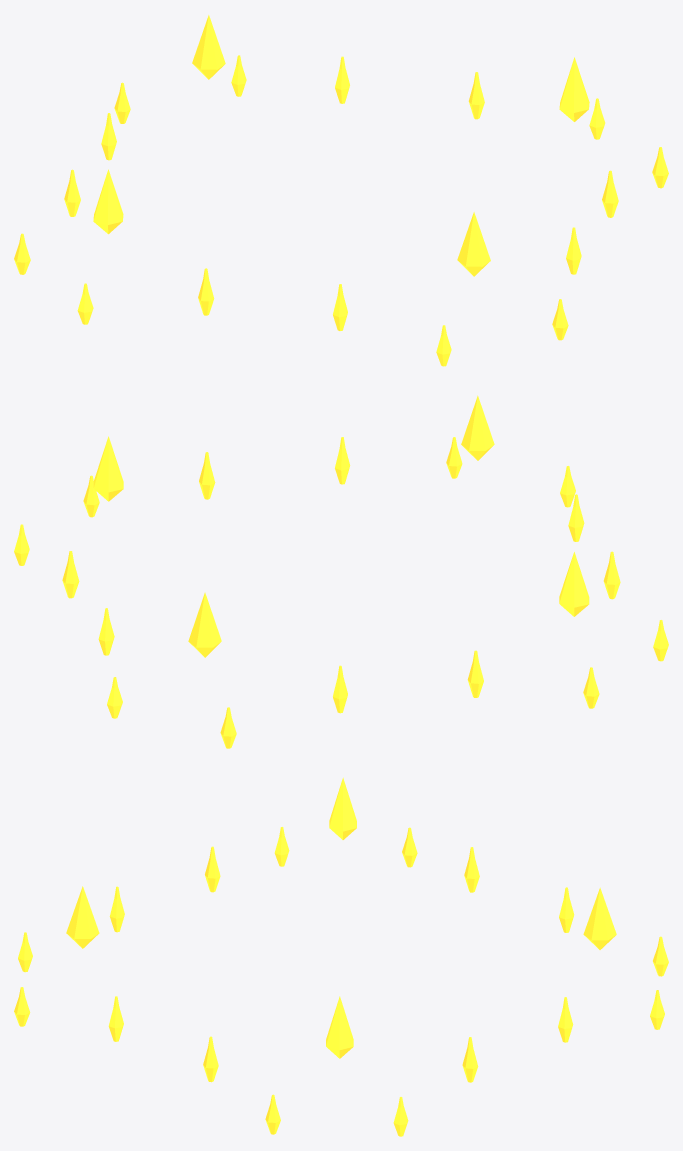
The model's file is CandleLight_ChC_01.fbx.
3 views of the same model, one above another, from view 1: azimuth 30°, elevation 25°; view 2: azimuth 150°, elevation 25°; view 3: azimuth 270°, elevation 25° (orthographic). The views are drawn at different scales.
Visible parts, largest first — view 1: CandleLight_ChC_01; view 2: CandleLight_ChC_01; view 3: CandleLight_ChC_01.
Boxes of the visible parts, x1=… form: CandleLight_ChC_01: x1=14, y1=15, x2=668, y2=366; CandleLight_ChC_01: x1=14, y1=395, x2=668, y2=748; CandleLight_ChC_01: x1=14, y1=777, x2=668, y2=1136.
Size of the model in its own units: 416 by 79.91 by 416.
